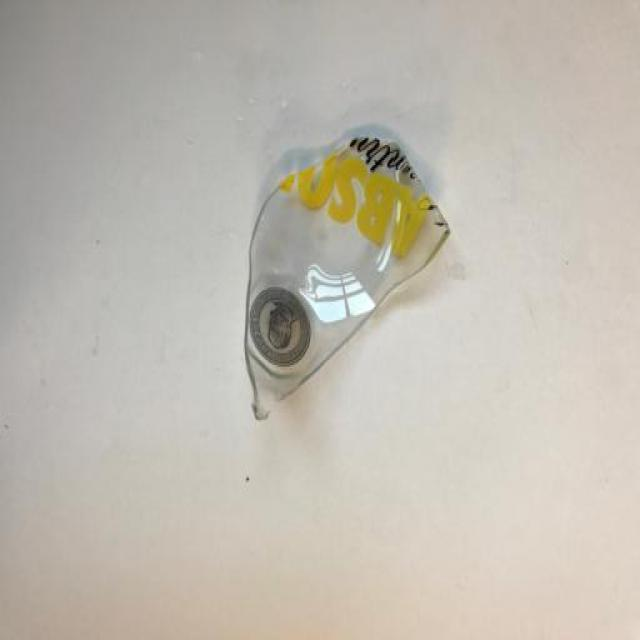glass: (244, 127, 450, 426)
